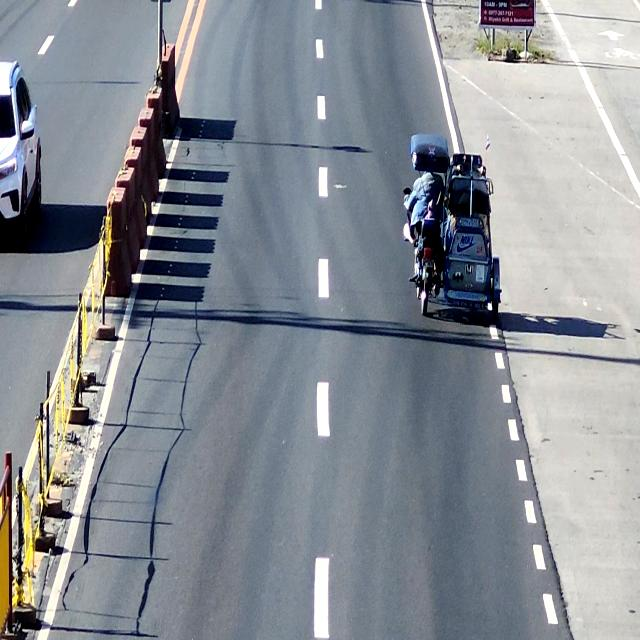Tricycle: (406, 125, 514, 330)
